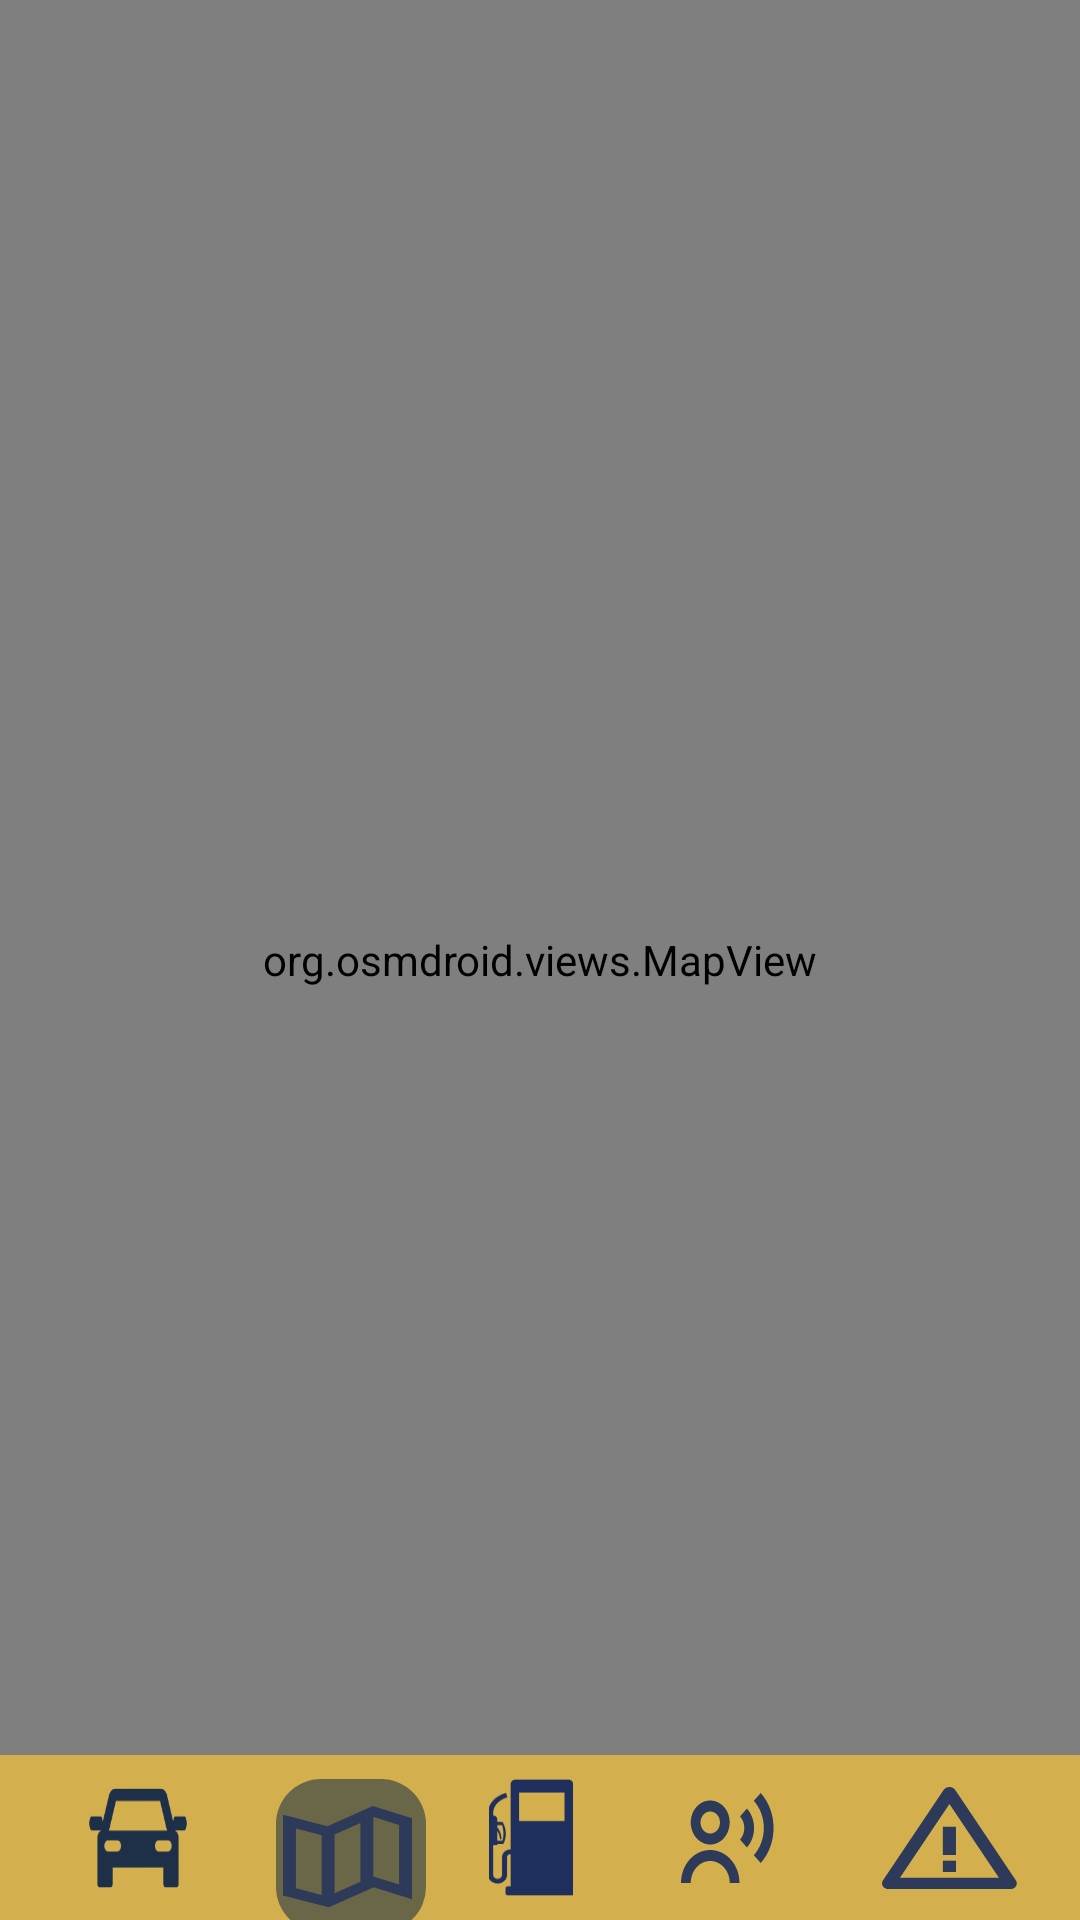

Named icons in this screenshot (1080*1920) and their bounding boxes, (x1, y1, x2, y2):
gasdarkblue: (489, 1779, 573, 1896)
map: (283, 1806, 412, 1907)
warning: (882, 1787, 1017, 1889)
